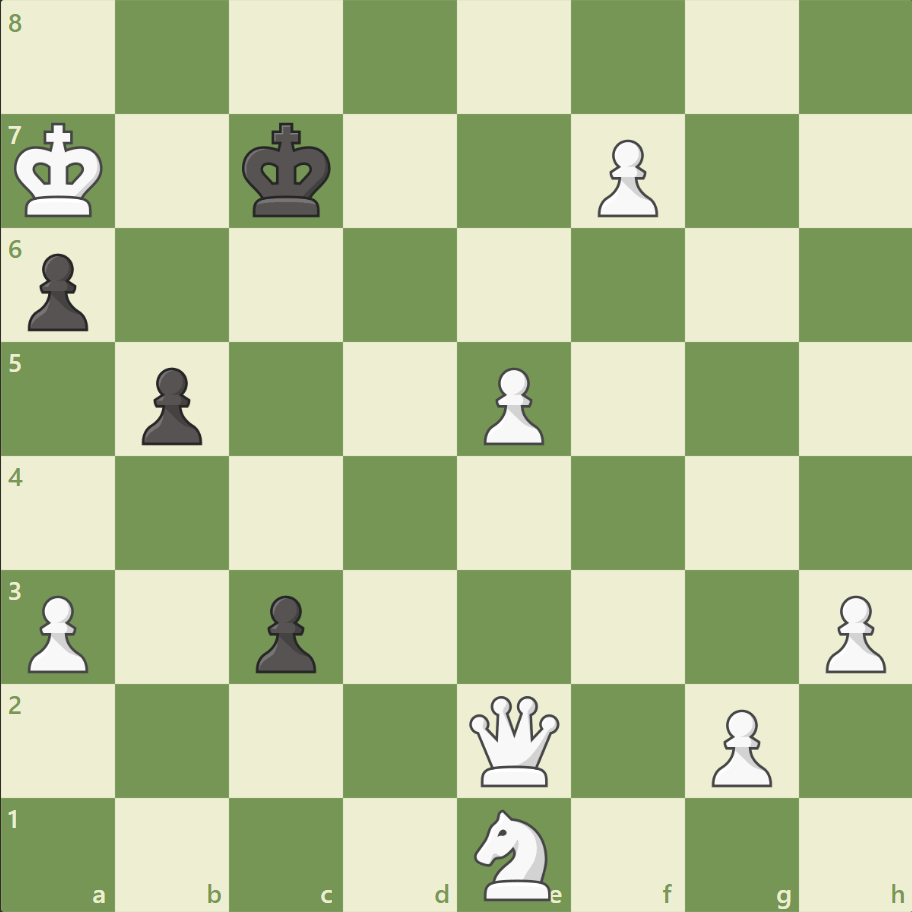K: (11, 117, 111, 225)
N: (465, 802, 562, 904)
P: (474, 359, 549, 450), (20, 586, 95, 677), (701, 700, 776, 791), (588, 132, 662, 223), (815, 586, 889, 677)
Q: (464, 690, 563, 789)
k: (238, 117, 338, 225)
p: (20, 246, 95, 337), (133, 359, 208, 450), (247, 586, 322, 677)
